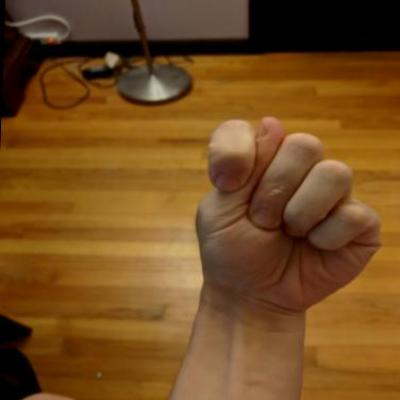hand: (187, 112, 390, 321)
